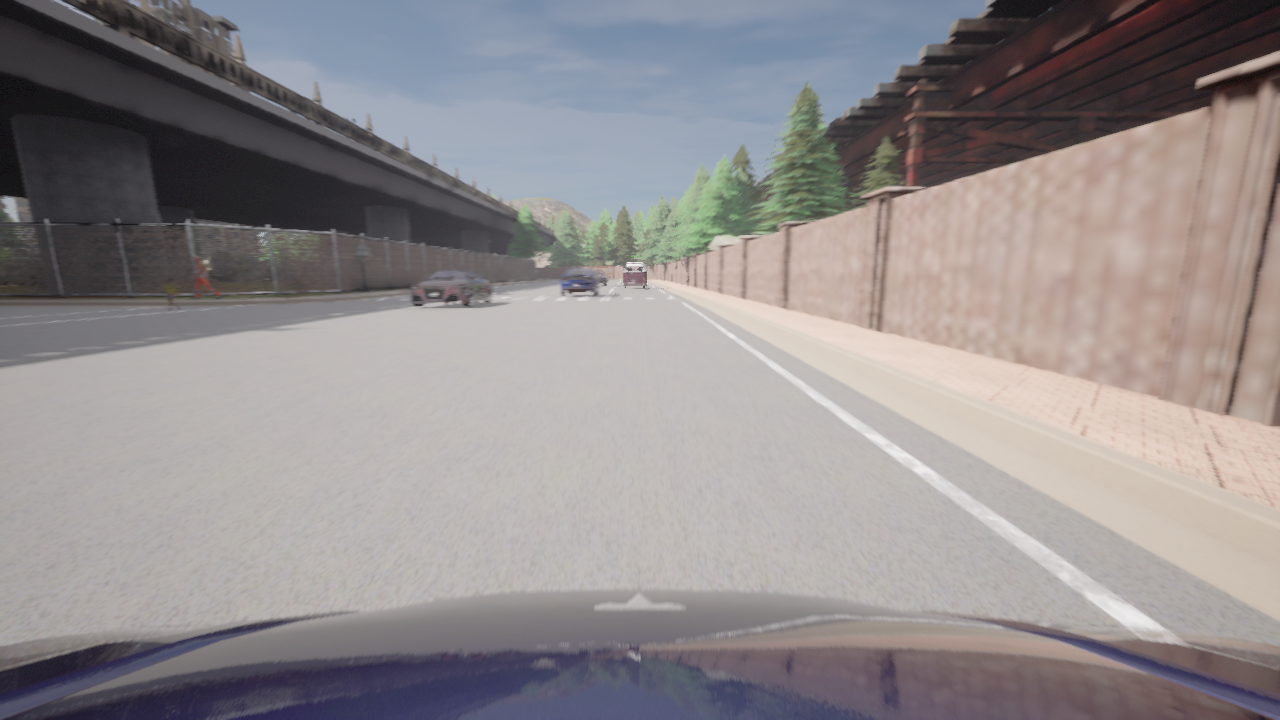cyclist: (0, 588, 1279, 719), (410, 269, 492, 306), (560, 267, 600, 296), (622, 262, 646, 288), (594, 270, 607, 285), (607, 276, 608, 280)
pedestrian: (190, 256, 222, 299), (160, 277, 179, 310), (685, 271, 689, 287)
